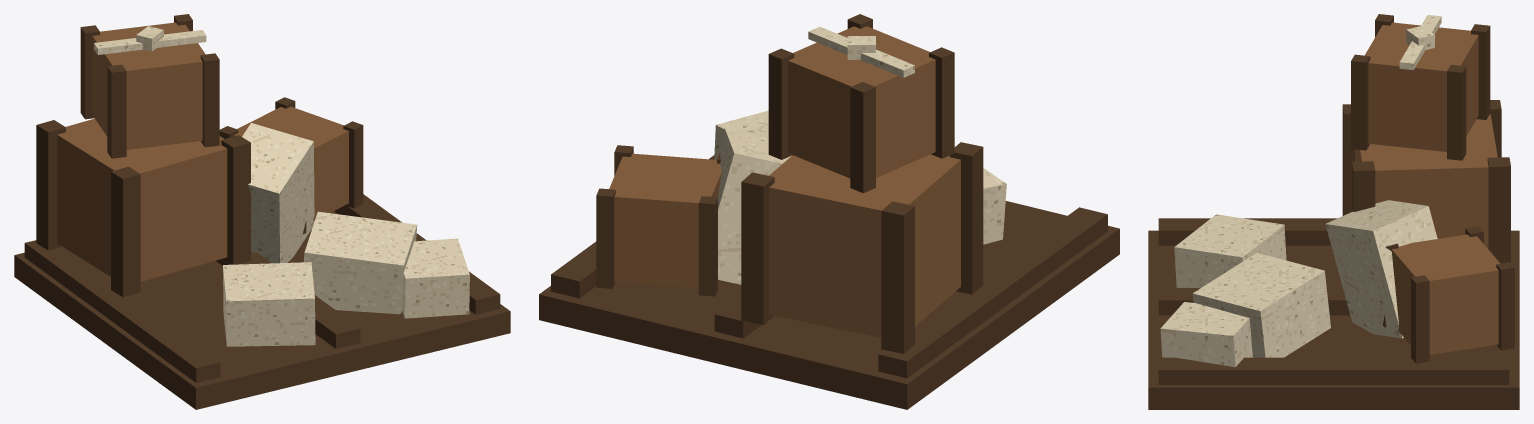
Rendered from storage_pile_t1.glb.
3 renders of one model, left to right at view 1: azimuth 30°, elevation 25°; view 2: azimuth 150°, elevation 25°; view 3: azimuth 270°, elevation 25°, orthographic. The views are drawn at different scales.
Visible parts, largest first — view 1: pallet, crate_big, crate_top, sack_0, sack_leaning, sack_1, pallet_skid_0, sack_2, crate_small, crate_big_post_3, crate_big_post_1, crate_big_post_2 (+8 smaller); view 2: pallet, crate_big, crate_top, crate_small, pallet_skid_0, crate_big_post_2, sack_leaning, crate_big_post_0, crate_big_post_3, crate_top_post_2, crate_top_post_0, crate_top_post_3 (+8 smaller); view 3: pallet, crate_top, crate_small, pallet_skid_2, crate_big, sack_0, sack_leaning, sack_1, sack_2, pallet_skid_0, crate_big_post_0, crate_top_post_0 (+10 smaller).
Part boxes in pixels (bbox=[...]): pallet: bbox=[14, 211, 510, 409]; crate_big: bbox=[57, 118, 227, 281]; crate_top: bbox=[92, 22, 205, 149]; sack_0: bbox=[303, 211, 417, 314]; sack_leaning: bbox=[242, 123, 314, 263]; sack_1: bbox=[223, 262, 315, 346]; pallet_skid_0: bbox=[24, 240, 220, 382]; sack_2: bbox=[402, 238, 469, 318]; crate_small: bbox=[233, 106, 348, 221]; crate_big_post_3: bbox=[111, 166, 140, 297]; crate_big_post_1: bbox=[221, 135, 250, 264]; crate_big_post_2: bbox=[36, 120, 65, 250]; pallet: bbox=[539, 201, 1119, 409]; crate_big: bbox=[769, 154, 960, 337]; crate_top: bbox=[788, 26, 935, 178]; crate_small: bbox=[609, 153, 721, 287]; pallet_skid_0: bbox=[878, 207, 1107, 378]; crate_big_post_2: bbox=[881, 201, 914, 353]; sack_leaning: bbox=[715, 128, 791, 284]; crate_big_post_0: bbox=[741, 172, 774, 324]; crate_big_post_3: bbox=[950, 142, 983, 294]; crate_top_post_2: bbox=[850, 82, 875, 193]; crate_top_post_0: bbox=[768, 48, 794, 159]; crate_top_post_3: bbox=[929, 47, 954, 158]; pallet: bbox=[1148, 230, 1519, 409]; crate_top: bbox=[1364, 22, 1478, 151]; crate_small: bbox=[1391, 234, 1500, 354]; pallet_skid_2: bbox=[1158, 357, 1509, 384]; crate_big: bbox=[1355, 114, 1497, 249]; sack_0: bbox=[1192, 253, 1330, 357]; sack_leaning: bbox=[1325, 200, 1437, 338]; sack_1: bbox=[1174, 214, 1286, 287]; sack_2: bbox=[1160, 302, 1252, 367]; pallet_skid_0: bbox=[1158, 218, 1336, 245]; crate_big_post_0: bbox=[1487, 157, 1510, 263]; crate_top_post_0: bbox=[1447, 64, 1466, 160].
Size of what is drawn, in the model's own units: 1.8 by 1.41 by 1.8.
3 materials, 1 textured.
